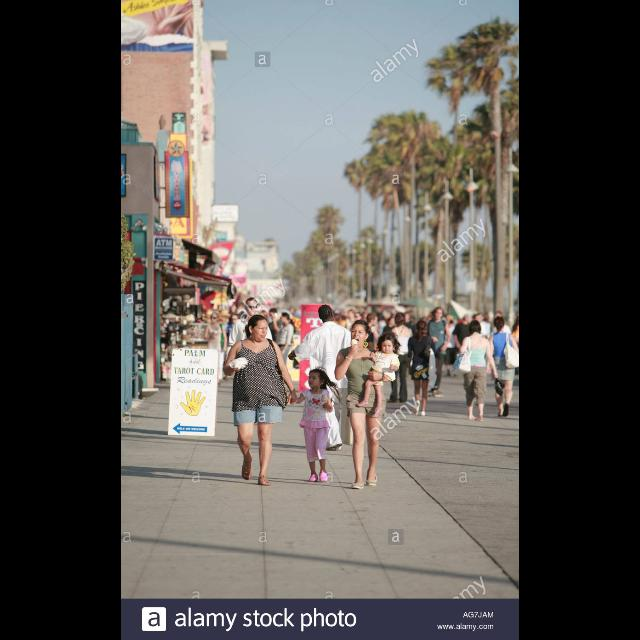head: (247, 314, 269, 344), (352, 320, 371, 346), (308, 369, 326, 388), (318, 305, 336, 323), (381, 334, 397, 354), (246, 298, 258, 316), (366, 313, 379, 327), (494, 316, 506, 329), (434, 308, 446, 320), (269, 308, 279, 322), (418, 320, 428, 334), (494, 310, 504, 324), (471, 321, 482, 333), (280, 314, 292, 324), (396, 313, 406, 325), (464, 314, 474, 324), (211, 312, 219, 324), (232, 314, 240, 326), (473, 314, 482, 324), (447, 315, 455, 325)
person: (223, 314, 299, 486), (287, 304, 363, 451), (334, 318, 388, 490), (227, 298, 275, 427), (291, 366, 343, 482), (450, 319, 500, 423), (355, 330, 401, 420), (407, 319, 441, 416), (385, 312, 417, 404), (423, 306, 452, 398), (358, 311, 382, 397), (264, 308, 290, 387), (202, 312, 228, 388), (452, 313, 480, 381), (488, 311, 514, 384), (273, 311, 297, 385), (224, 314, 246, 381), (470, 314, 492, 376), (443, 314, 461, 378)
